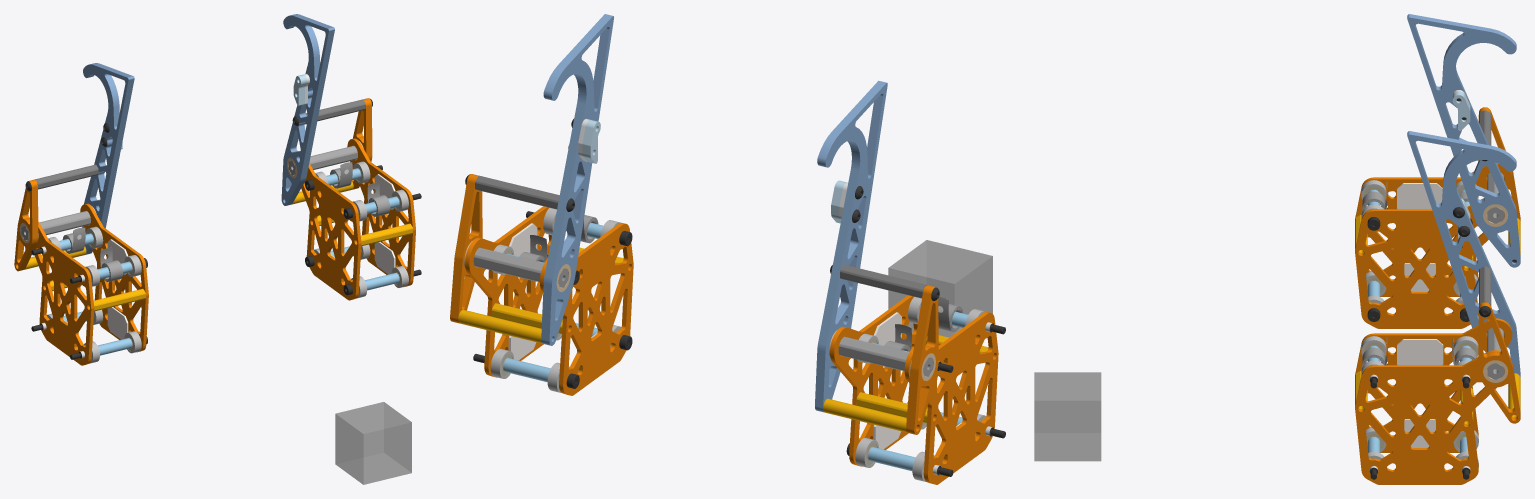
3 views of the same model, side by side, from view 1: azimuth 30°, elevation 25°; view 2: azimuth 150°, elevation 25°; view 3: azimuth 270°, elevation 25° (orthographic). The views are drawn at different scales.
Visible parts, largest first — view 1: Part 42 (×4), Origin Cube (×2), Part 47 (×2), Part 50 (×2), 1/2" Rounded Hex (REV) (3 in) (×2), 3/8" ThunderHex (2.5 in) (×2), 3/8" ThunderHex (2.125 in) (×2), Part 44 (×2), 9293K263_Constant-Force Strip Spring (×2); view 2: Part 42 (×4), Part 47 (×2), Origin Cube (×2), Part 50 (×2), 1/2" Rounded Hex (REV) (3 in) (×2), 3/8" ThunderHex (2.5 in) (×2), ROUND Spacer 2.5 in (×2), 3/8" ThunderHex (2.125 in) (×2), ROUND Spacer 1.438 in (×2), Part 49; view 3: Part 42 (×4), Part 47 (×2), Origin Cube (×2), Part 43 (×2), Part 50.
Boxes of the visible parts, bbox=[...] form: Part 42 (×4): bbox=[34, 138, 415, 365]; Origin Cube (×2): bbox=[335, 402, 411, 484]; Part 47 (×2): bbox=[82, 14, 334, 254]; Part 50 (×2): bbox=[14, 98, 372, 271]; 1/2" Rounded Hex (REV) (3 in) (×2): bbox=[21, 145, 357, 240]; 3/8" ThunderHex (2.5 in) (×2): bbox=[35, 99, 365, 189]; 3/8" ThunderHex (2.125 in) (×2): bbox=[93, 223, 412, 311]; Part 44 (×2): bbox=[107, 242, 395, 339]; 9293K263_Constant-Force Strip Spring (×2): bbox=[100, 182, 390, 281]; Part 42 (×4): bbox=[465, 206, 998, 484]; Part 47 (×2): bbox=[541, 14, 887, 412]; Origin Cube (×2): bbox=[888, 240, 992, 337]; Part 50 (×2): bbox=[450, 174, 938, 434]; 1/2" Rounded Hex (REV) (3 in) (×2): bbox=[473, 247, 933, 376]; 3/8" ThunderHex (2.5 in) (×2): bbox=[475, 175, 927, 298]; ROUND Spacer 2.5 in (×2): bbox=[458, 309, 906, 432]; 3/8" ThunderHex (2.125 in) (×2): bbox=[491, 303, 927, 422]; ROUND Spacer 1.438 in (×2): bbox=[503, 358, 915, 470]; Part 49: bbox=[582, 120, 600, 163]; Part 42 (×4): bbox=[1355, 163, 1512, 484]; Part 47 (×2): bbox=[1407, 14, 1520, 376]; Origin Cube (×2): bbox=[1034, 372, 1100, 460]; Part 43 (×2): bbox=[1397, 183, 1443, 365]; Part 50: bbox=[1478, 302, 1520, 423].
Bounding box in the file's own units: 0.3651 × 0.3114 × 0.3683.
